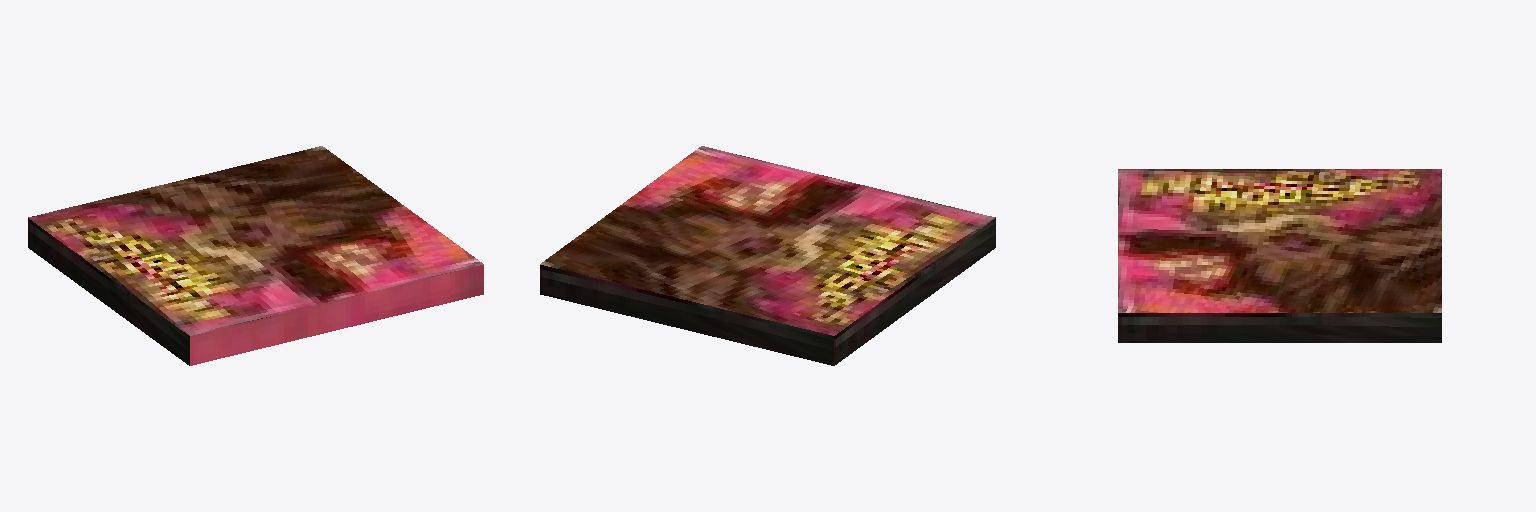
The picture shows the model from 3 angles: view 1: azimuth 30°, elevation 25°; view 2: azimuth 150°, elevation 25°; view 3: azimuth 270°, elevation 25°; orthographic projection.
Visible parts, largest first — view 1: cube1; view 2: cube1; view 3: cube1.
Boxes of the visible parts, x1,y1,x2,y2 form: cube1: [28, 146, 483, 365]; cube1: [540, 146, 995, 365]; cube1: [1118, 169, 1441, 342].
Size of the model in its own units: 2.1 by 0.2037 by 2.
1 materials, 1 textured.